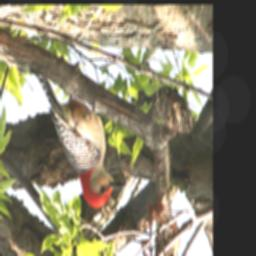Woodpecker: (31, 69, 128, 212)
